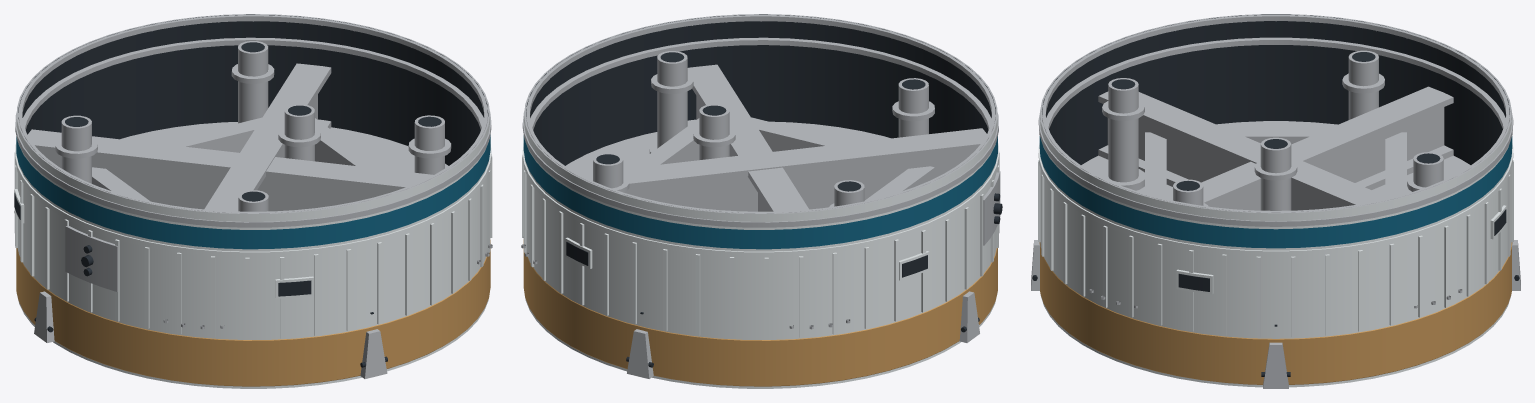
Rendered from mount_s1_5_d54.fbx.
The picture shows the model from 3 angles, left to right: view 1: azimuth 30°, elevation 25°; view 2: azimuth 150°, elevation 25°; view 3: azimuth 270°, elevation 25°; orthographic projection.
Parts seen in each view (by area): view 1: mount_s1_5_d54_LOD0; view 2: mount_s1_5_d54_LOD0; view 3: mount_s1_5_d54_LOD0.
Boxes of the visible parts, x1,y1,x2,y2 form: mount_s1_5_d54_LOD0: (14,14,492,388); mount_s1_5_d54_LOD0: (521,14,1002,388); mount_s1_5_d54_LOD0: (1031,14,1520,388).
Size of what is drawn, in the model's own units: 5.6 by 2.2 by 5.6.
